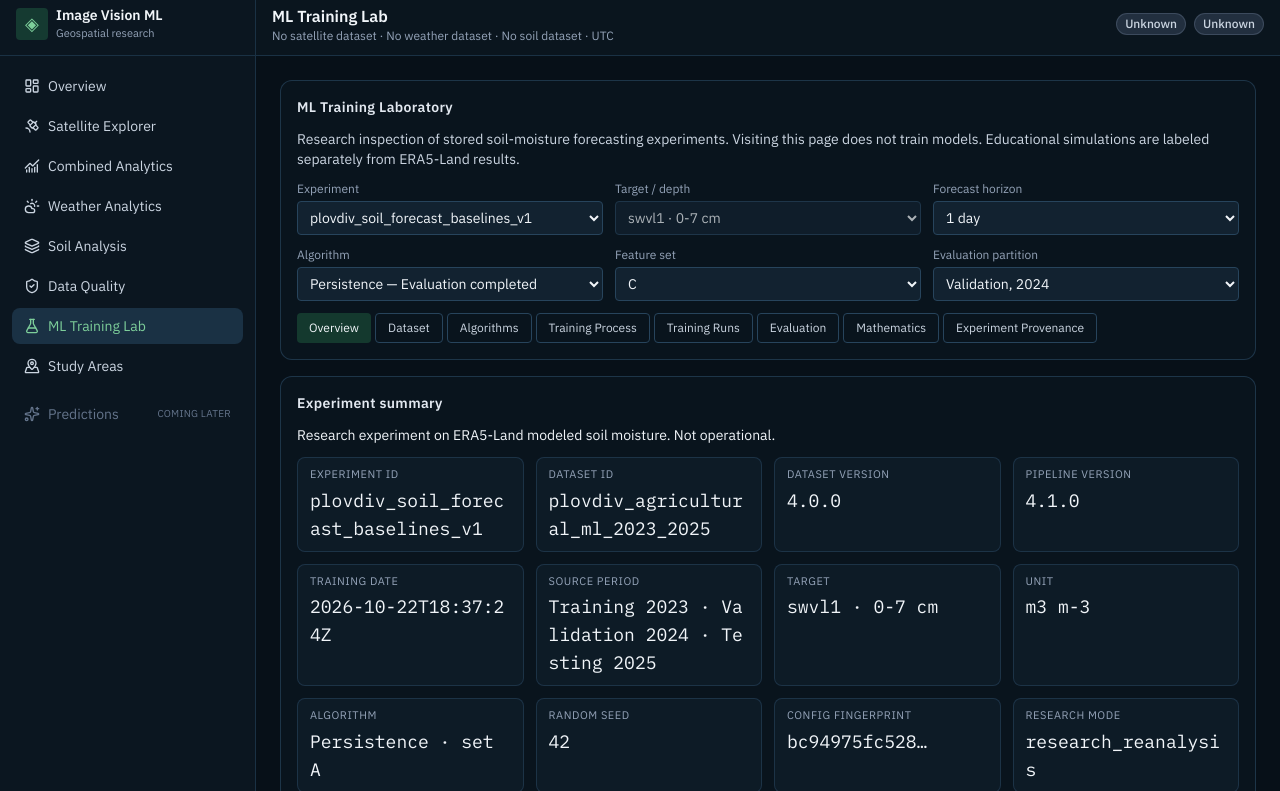
Test case: ML Training Laboratory › plays back stored events and steps without inventing states
Check: the heading "Experiment summary" is shown, box [297, 393, 443, 413]
Click the tab "Training Runs" at {"x": 703, "y": 328}, box [654, 313, 753, 343]
(page scrolled)
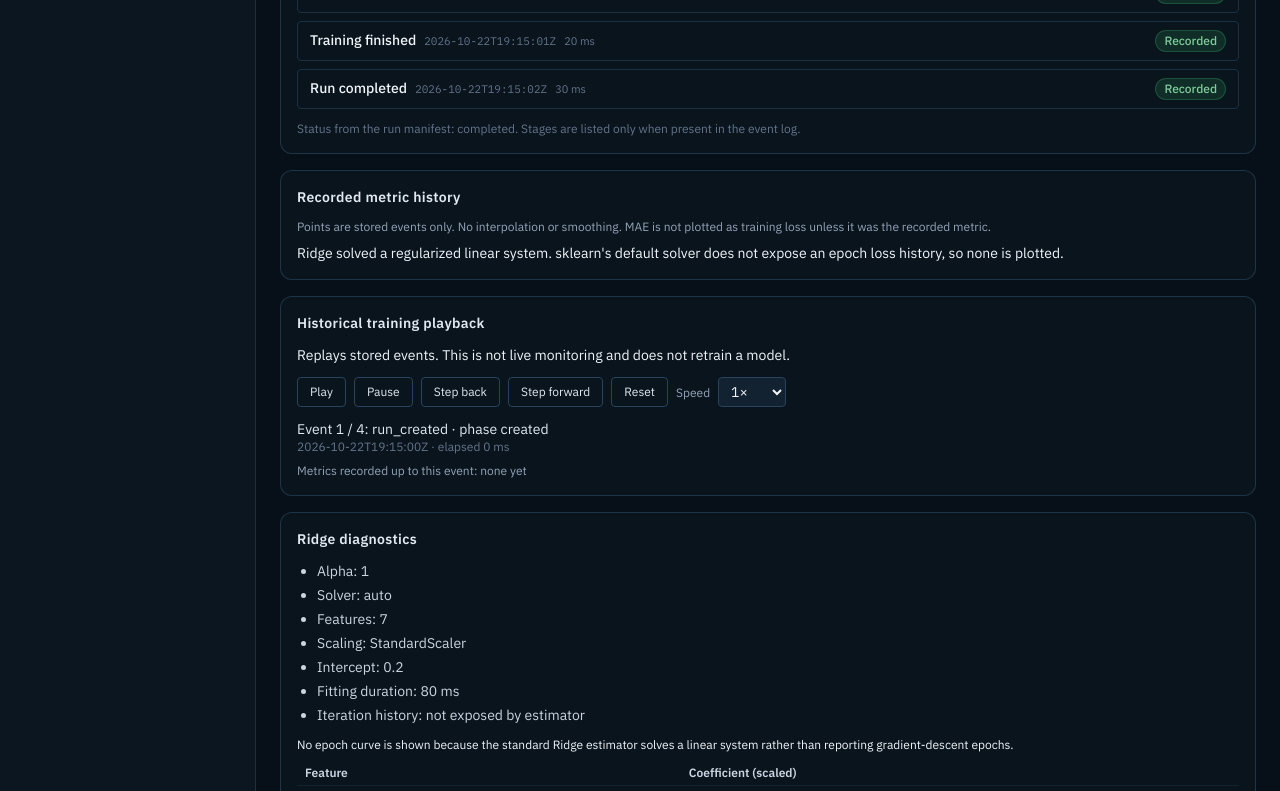
Check: the text with test id "playback-cursor" shows "Event 1 / 4", box [297, 420, 548, 438]
Click the button "Step forward" at {"x": 556, "y": 392}, box [508, 377, 603, 407]
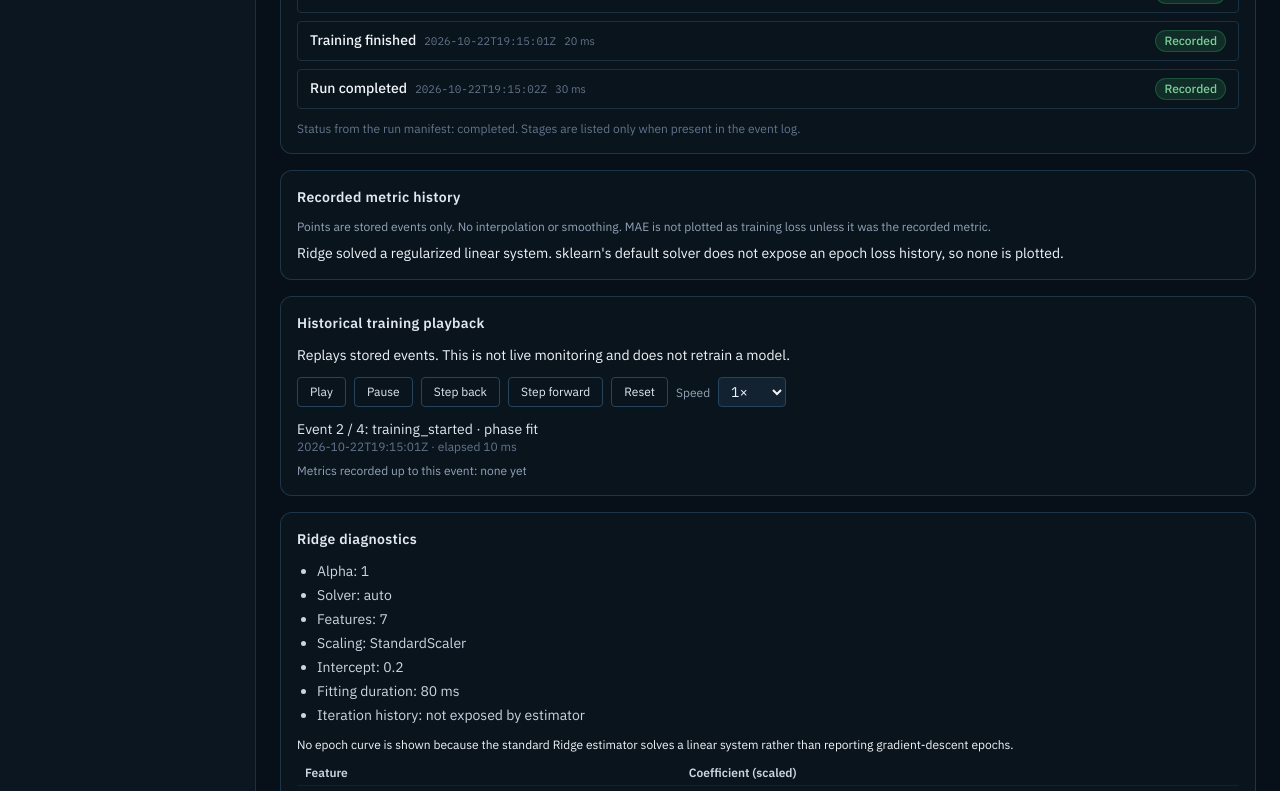
Check: the text with test id "playback-cursor" shows "Event 2 / 4", box [297, 420, 538, 438]
Click the button with aria-label "Reset historical playback" at {"x": 640, "y": 392}, box [611, 377, 668, 407]
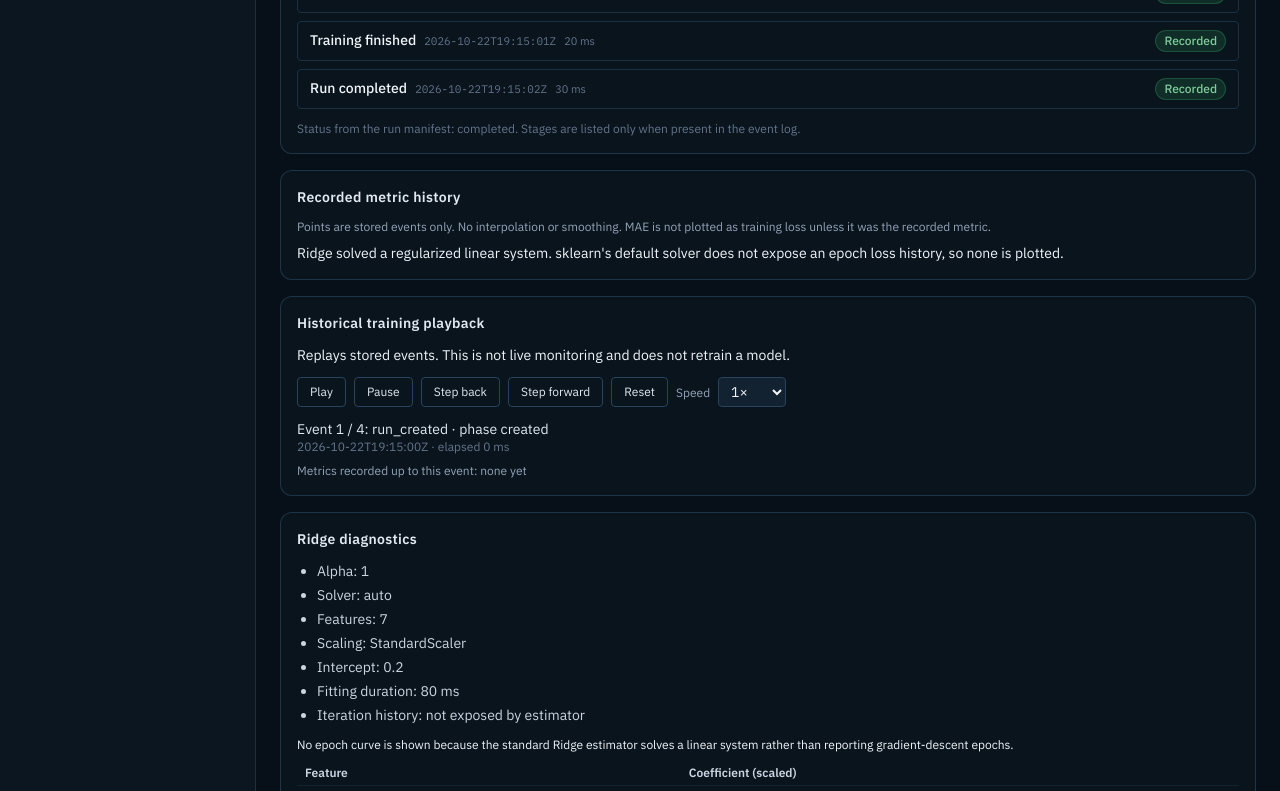
Check: the text with test id "playback-cursor" shows "Event 1 / 4", box [297, 420, 548, 438]
